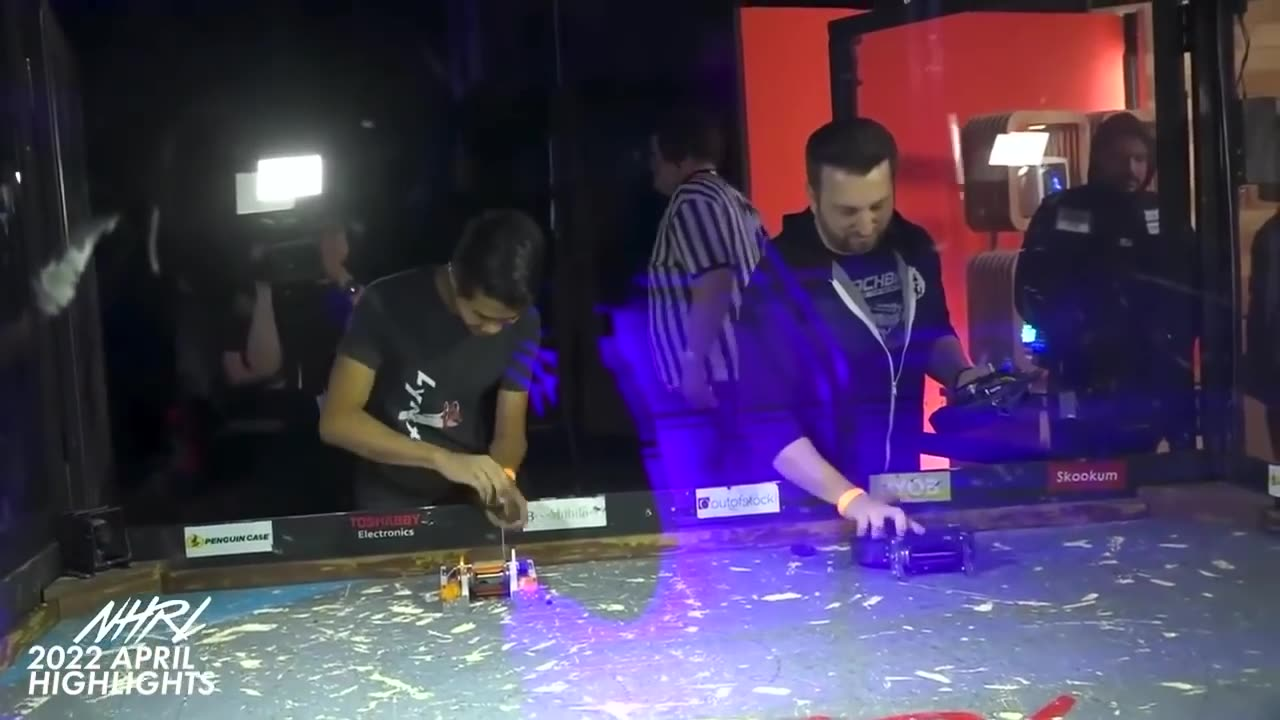combatbot: (845, 518, 968, 580), (431, 552, 541, 607)
